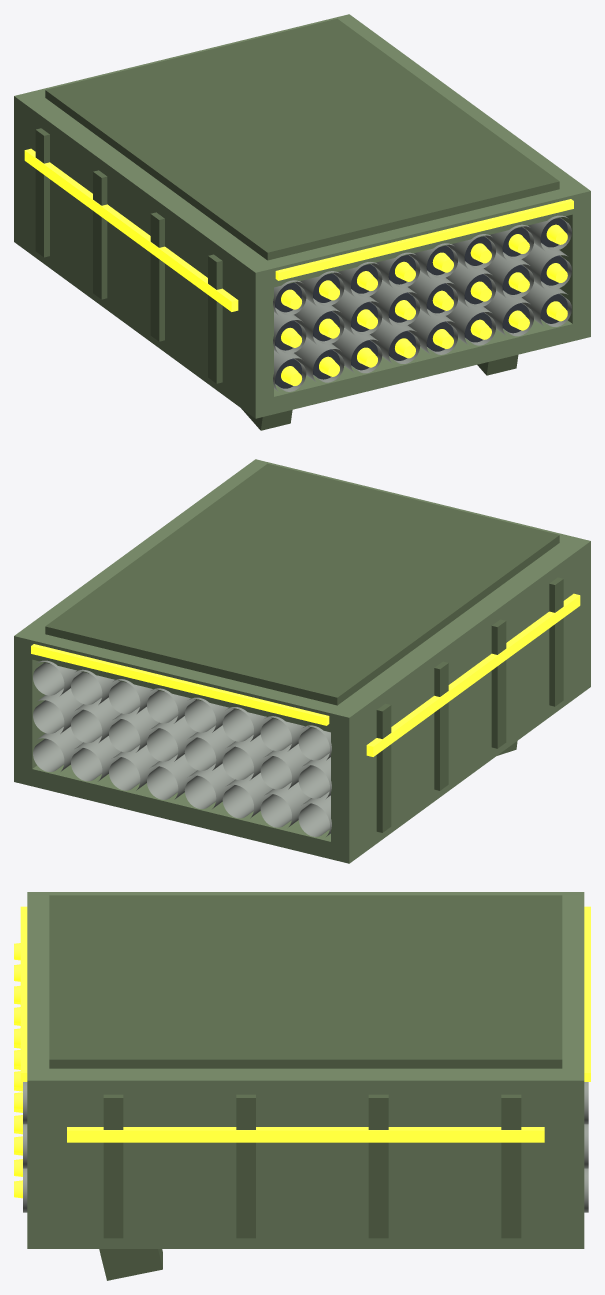
File: Scatter_gun.glb
3 renders of one model, top to bottom at view 1: azimuth 30°, elevation 25°; view 2: azimuth 150°, elevation 25°; view 3: azimuth 270°, elevation 25°, orthographic. The views are drawn at different scales.
Parts seen in each view (by area): view 1: Scatter_Gun; view 2: Scatter_Gun; view 3: Scatter_Gun.
Part boxes in pixels (bbox=[...]): Scatter_Gun: bbox=[14, 14, 590, 430]; Scatter_Gun: bbox=[14, 459, 590, 863]; Scatter_Gun: bbox=[14, 892, 590, 1280].
Bounding box in the file's own units: 2.1 × 1.16 × 2.61.
